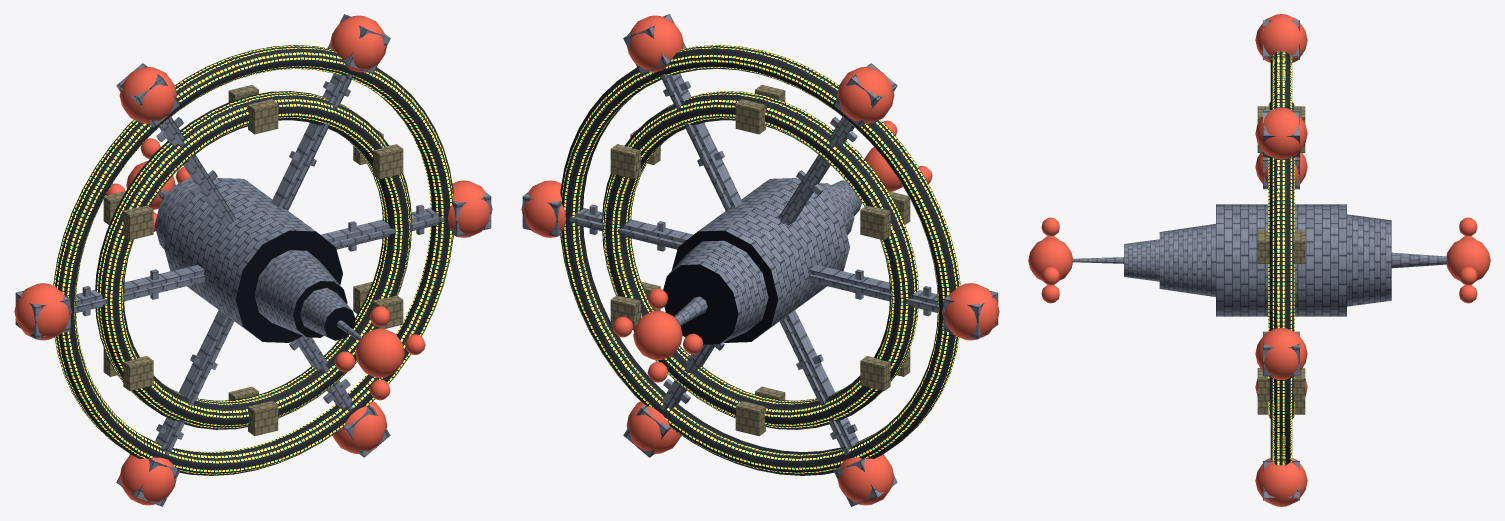
The model's file is station.glb.
The picture shows the model from 3 angles, left to right: view 1: azimuth 30°, elevation 25°; view 2: azimuth 150°, elevation 25°; view 3: azimuth 270°, elevation 25°; orthographic projection. The views are drawn at different scales.
Parts seen in each view (by area): view 1: node-1, node-0, node-3, node-2; view 2: node-1, node-0, node-3, node-2; view 3: node-0, node-3, node-1, node-2.
Boxes of the visible parts, box(x1,y1,x2,y2) form: node-1: box(53, 45, 453, 475); node-0: box(15, 14, 491, 506); node-3: box(14, 15, 492, 505); node-2: box(103, 85, 403, 435); node-1: box(560, 45, 960, 475); node-0: box(522, 14, 998, 506); node-3: box(521, 15, 999, 505); node-2: box(610, 85, 910, 435); node-0: box(1072, 20, 1446, 500); node-3: box(1028, 14, 1490, 506); node-1: box(1268, 51, 1294, 465); node-2: box(1257, 106, 1305, 414).
Size of the model in its own units: 8.32 by 7.32 by 7.78.
4 materials, 3 textured.
